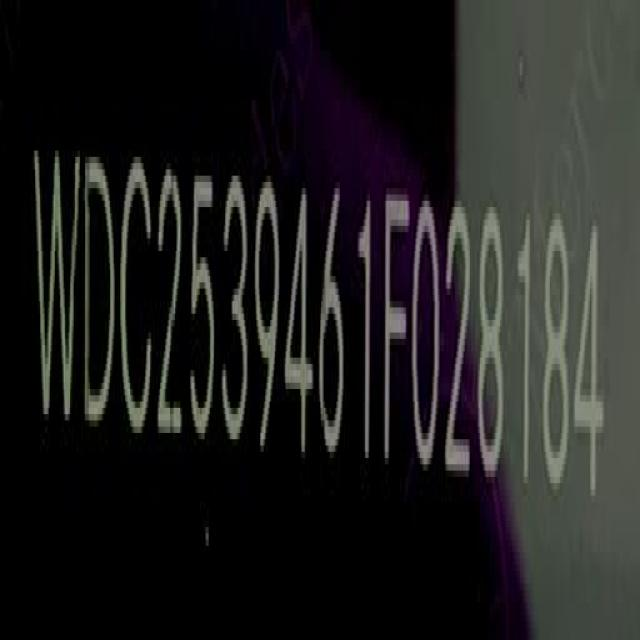0: (413, 192, 442, 478)
1: (516, 210, 537, 496), (355, 193, 373, 460)
2: (156, 161, 186, 446), (446, 202, 476, 482)
3: (222, 171, 250, 453)
4: (575, 215, 607, 506), (287, 176, 317, 463)
5: (191, 164, 219, 446)
6: (319, 176, 348, 466)
8: (477, 204, 507, 485), (544, 217, 573, 496)
9: (253, 174, 281, 460)
C: (118, 139, 153, 451)
D: (84, 147, 119, 439)
F: (382, 195, 412, 467)
W: (32, 140, 82, 434)
